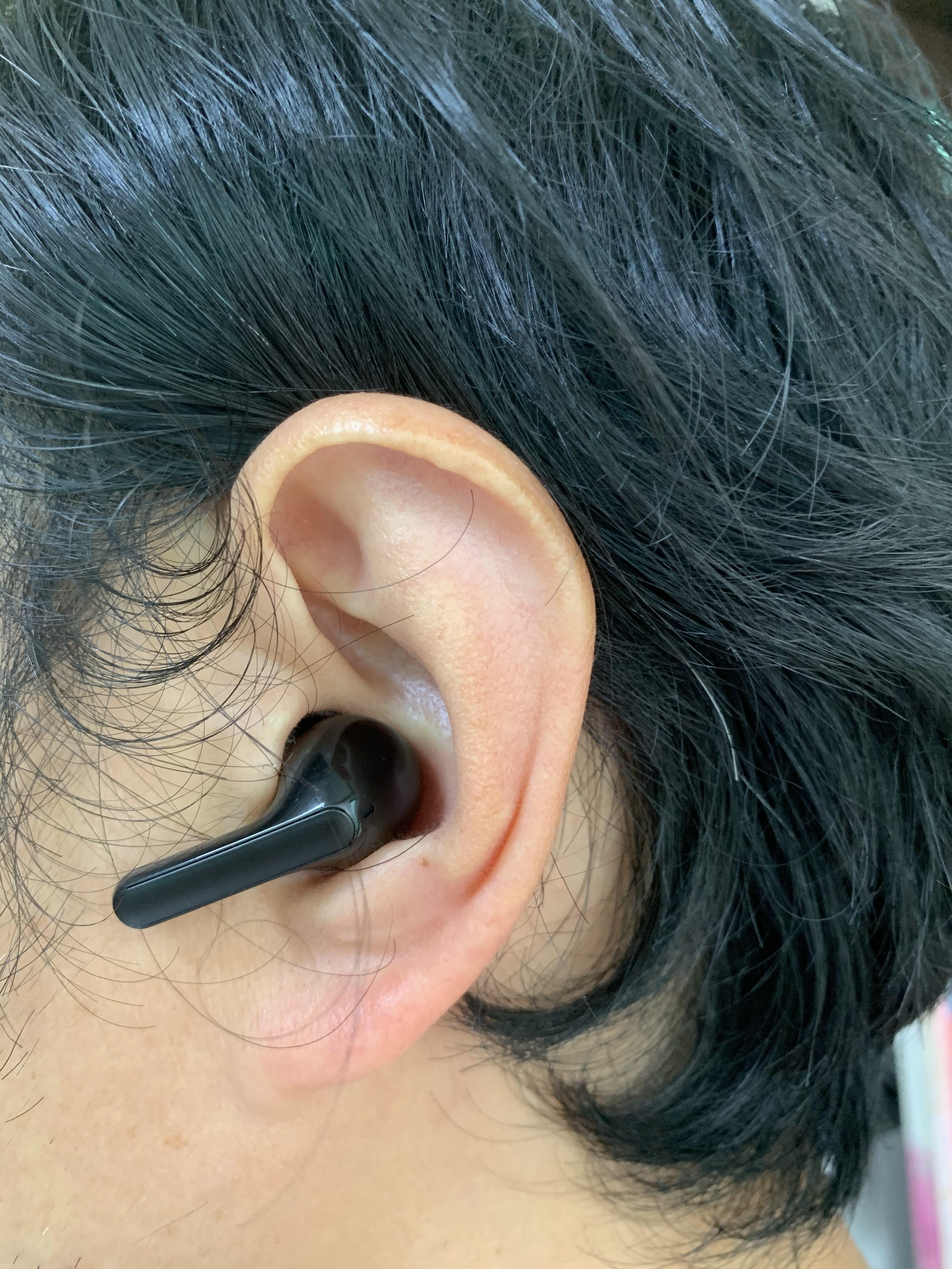earphone: (112, 712, 458, 961)
